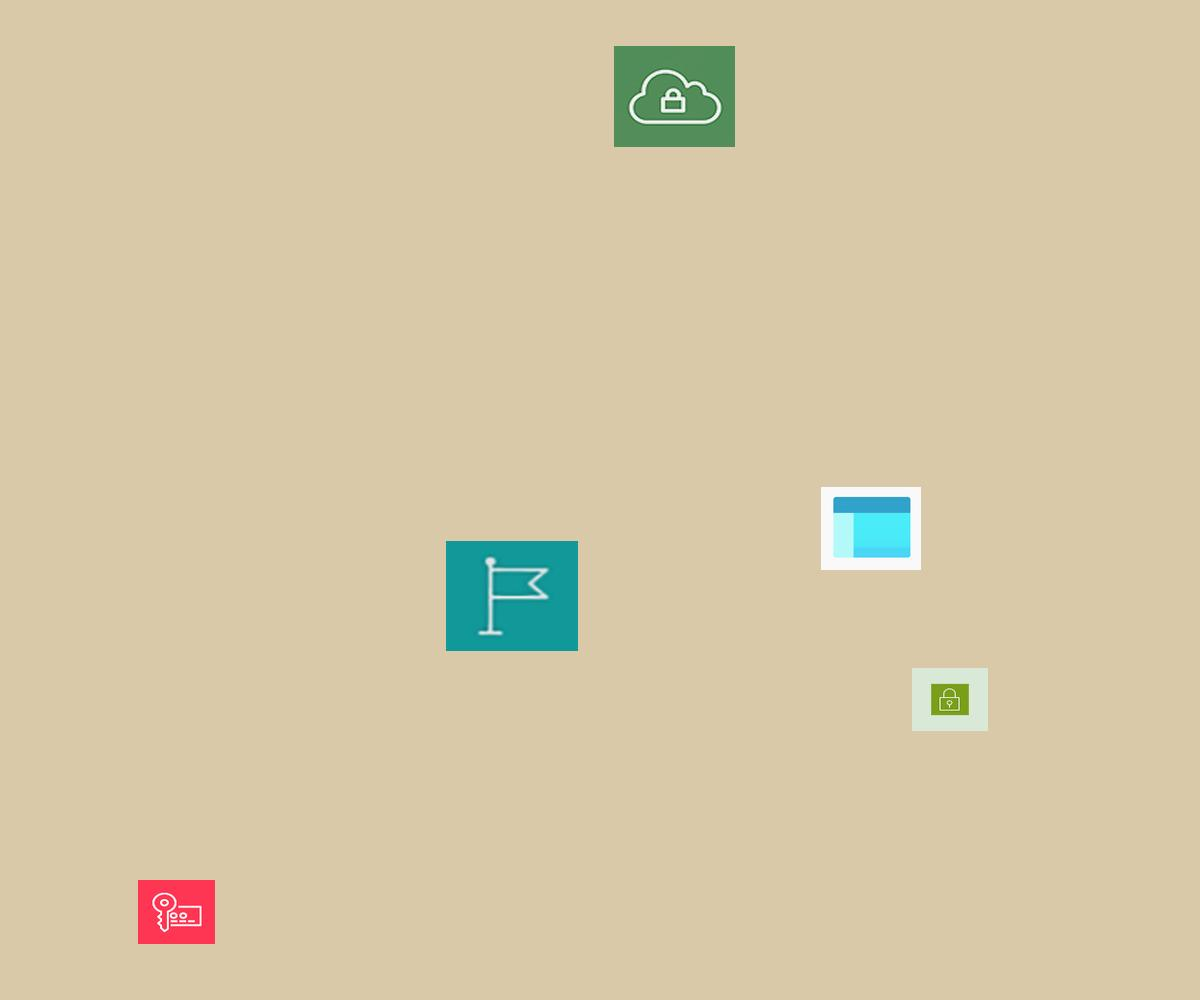AWS-Key-Management-Service: (138, 880, 215, 944)
AWS-Private_vpc: (614, 46, 735, 147)
AWS-Public-subnet: (912, 668, 988, 731)
AWS-Region: (446, 541, 578, 651)
Azure_management-portal: (821, 487, 921, 570)
